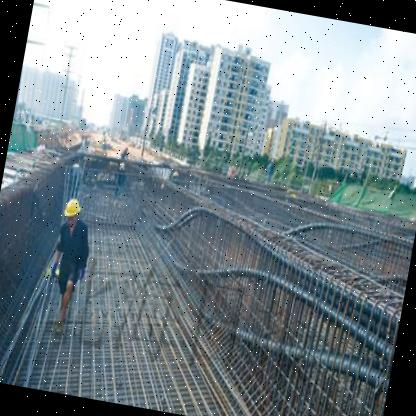capacete: (58, 191, 84, 222)
